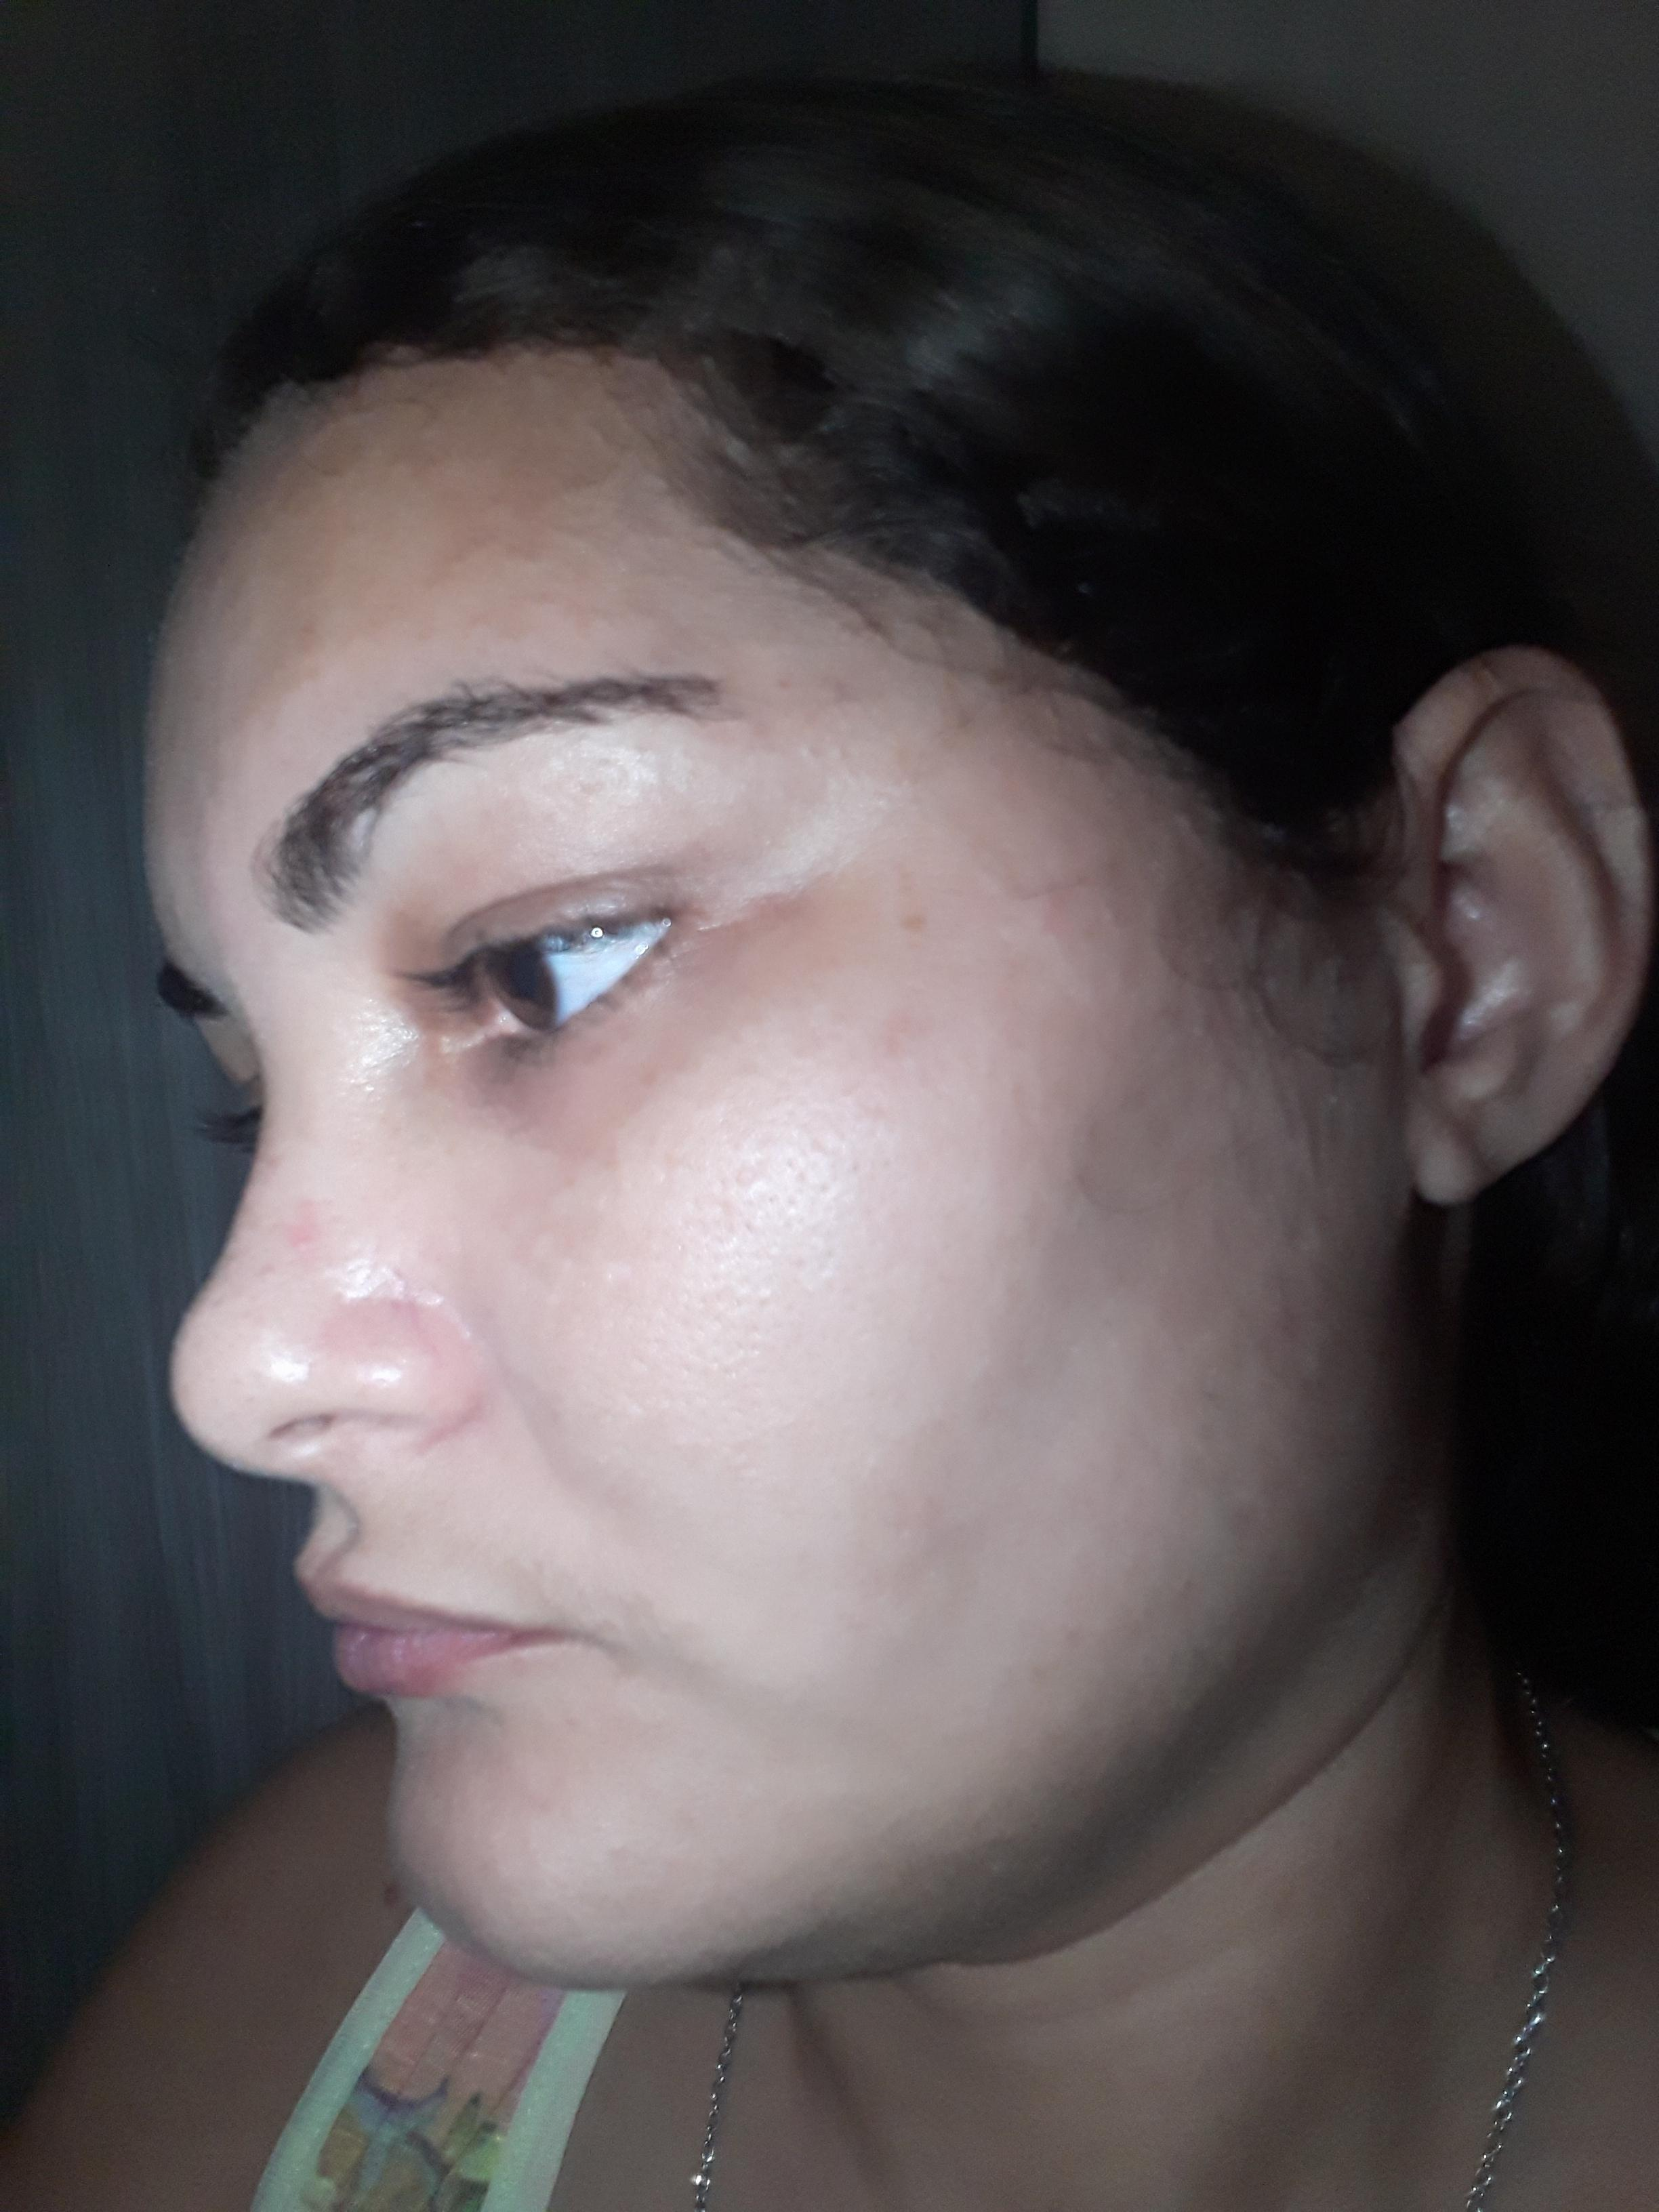Acne: (873, 998, 929, 1069), (274, 1195, 317, 1264), (897, 909, 932, 942)
Wrinkles: (699, 867, 835, 928)
